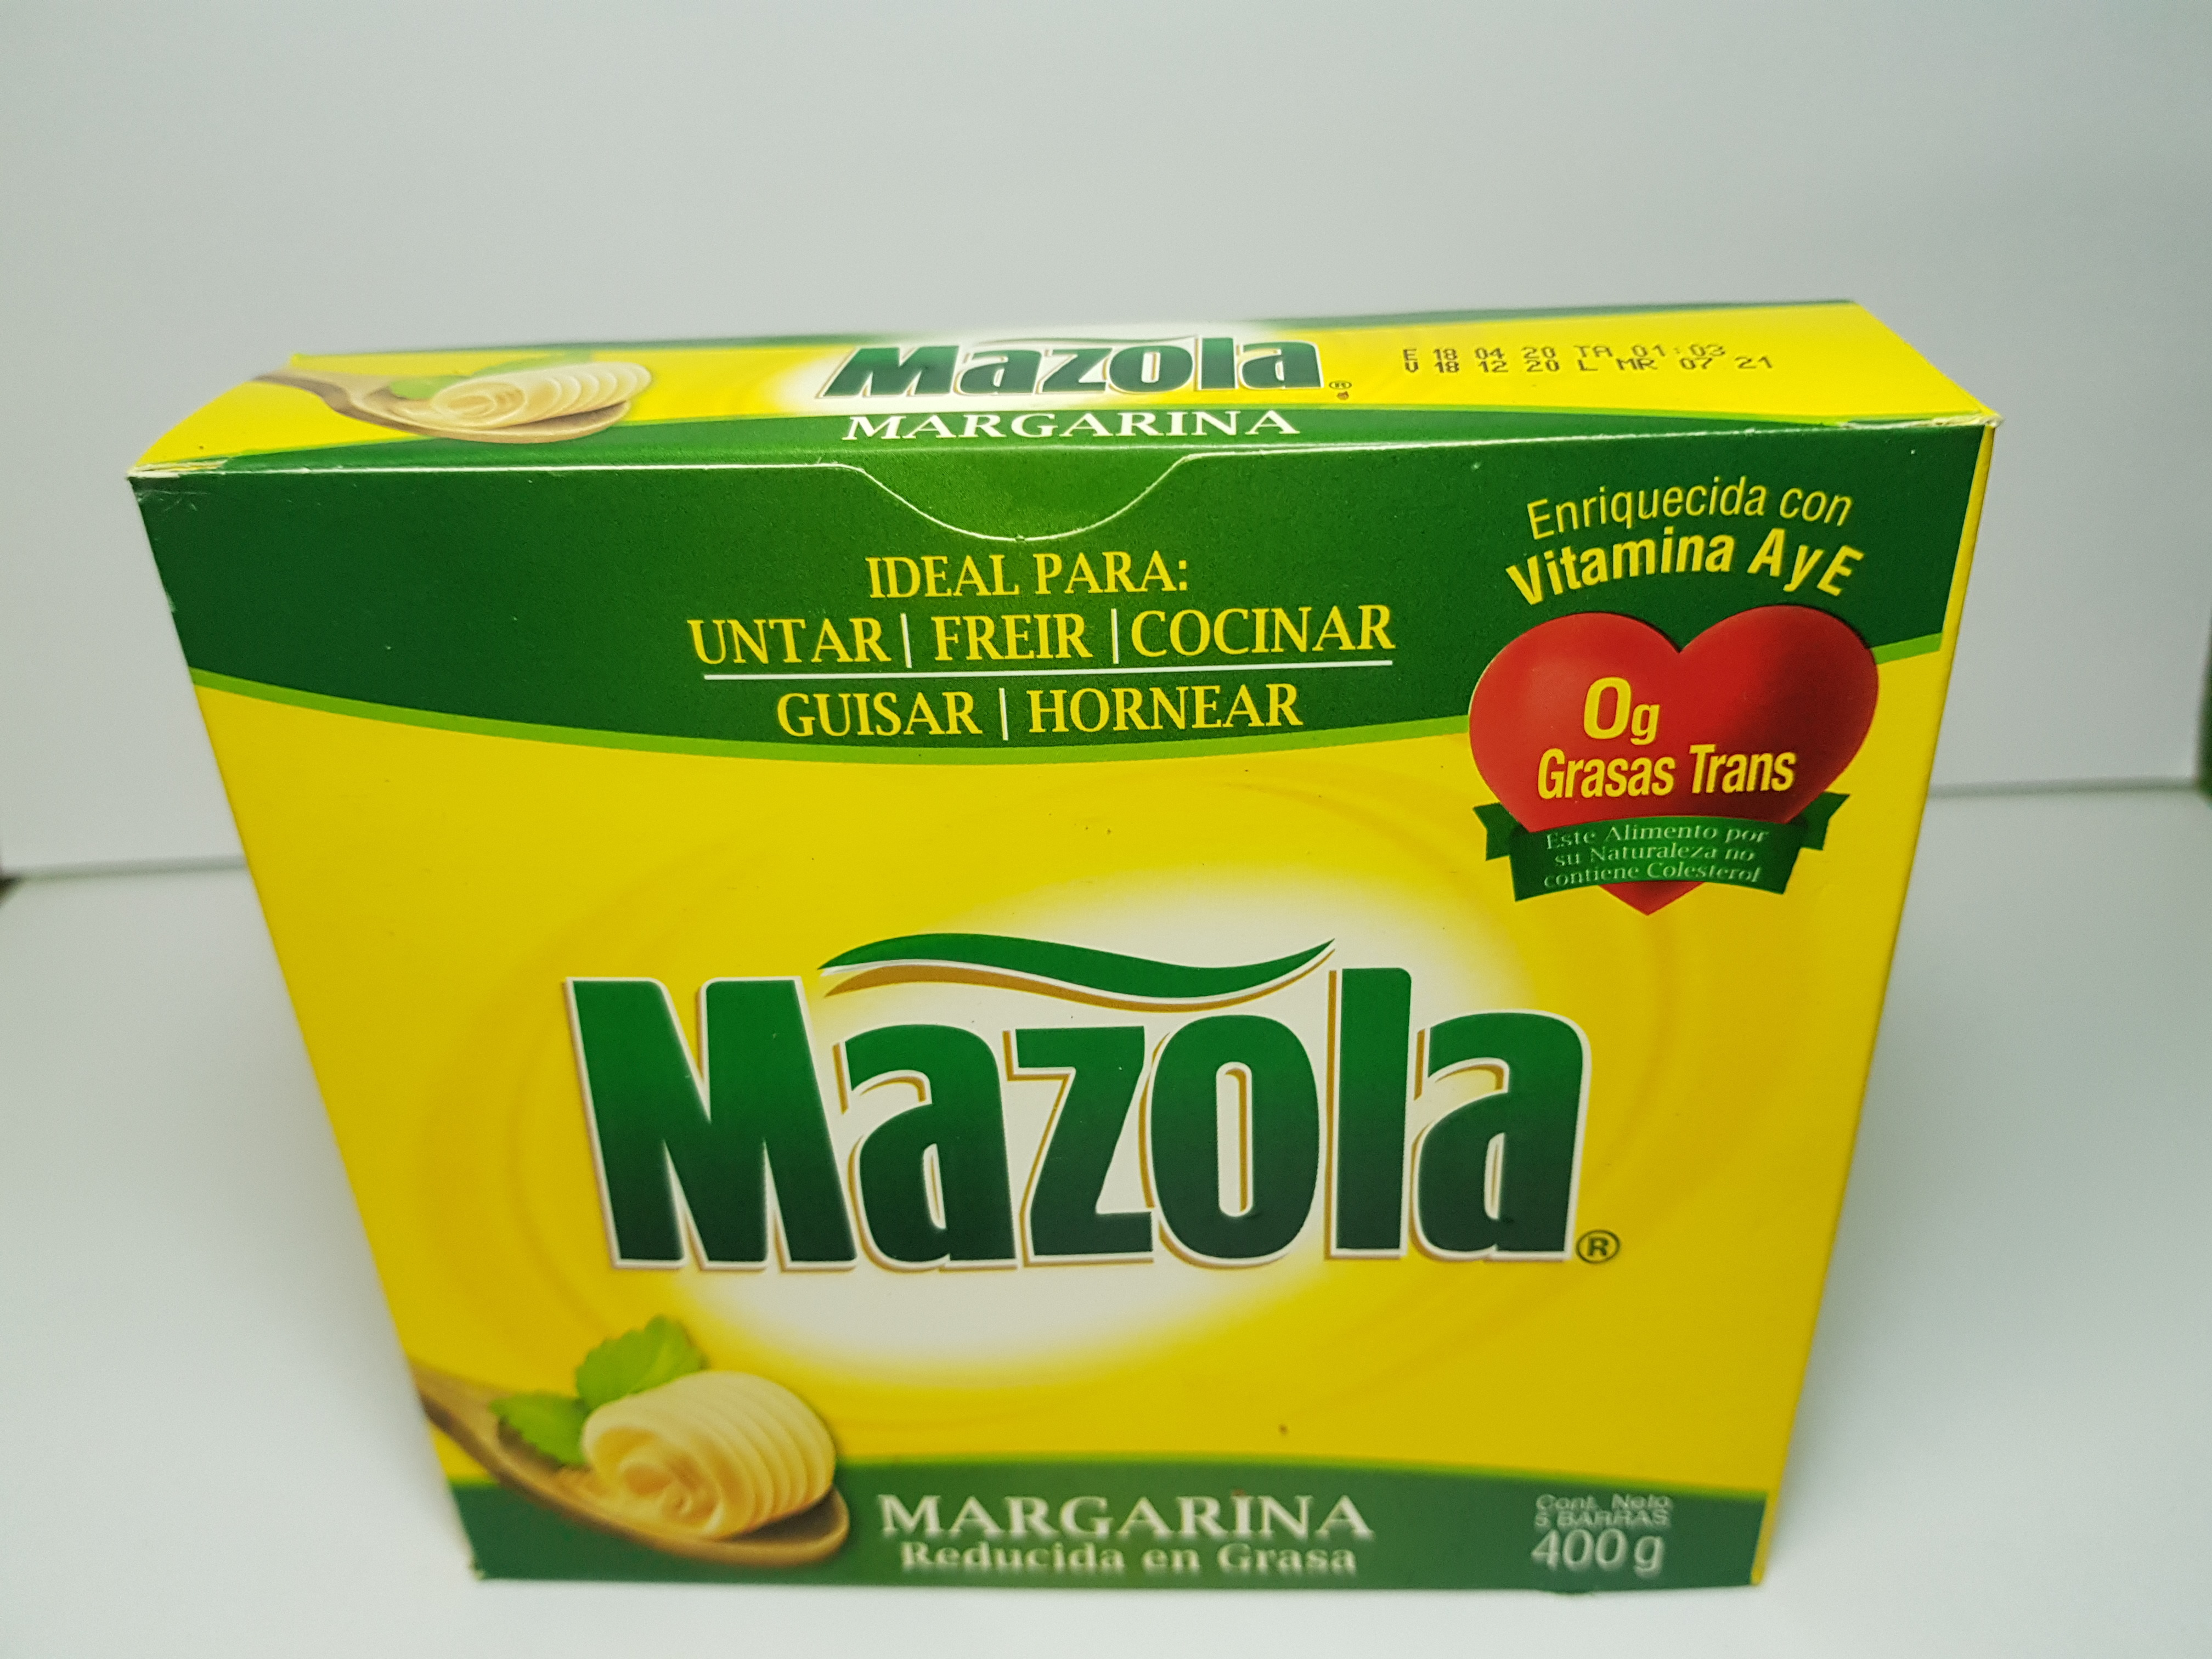mazola: (106, 263, 2047, 1624)
